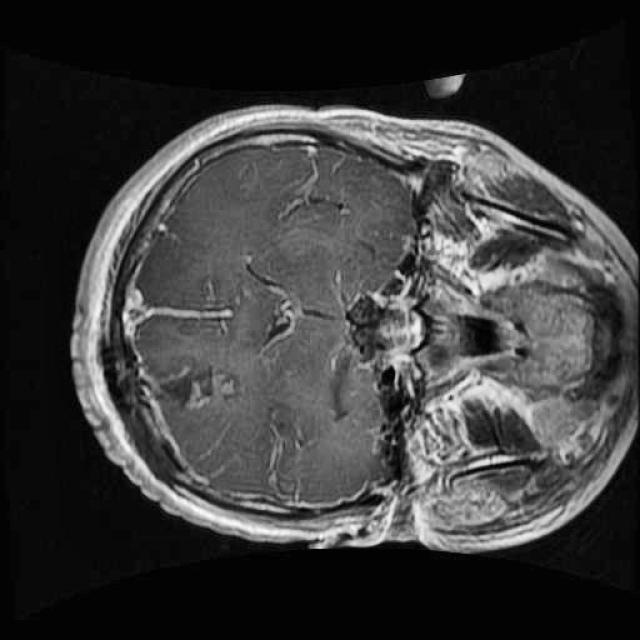Tumor: (142, 336, 253, 425)
